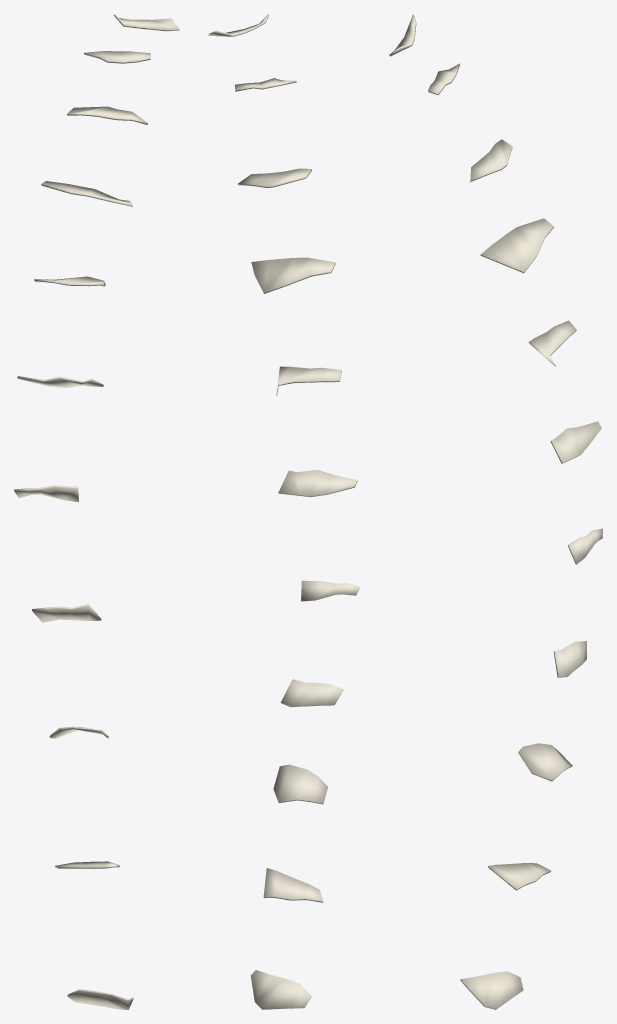
3 views of the same model, side by side, from view 1: azimuth 30°, elevation 25°; view 2: azimuth 210°, elevation 25°; view 3: azimuth 270°, elevation 25° (orthographic). The views are drawn at different scales.
Visible parts, largest first — view 1: ZA_ae37d65217f11e80; view 2: ZA_ae37d65217f11e80; view 3: ZA_ae37d65217f11e80.
Boxes of the visible parts, left/top/right/bottom form: ZA_ae37d65217f11e80: left=14, top=14, right=179, bottom=1009; ZA_ae37d65217f11e80: left=208, top=14, right=360, bottom=1009; ZA_ae37d65217f11e80: left=389, top=14, right=602, bottom=1009.
Size of the model in its own units: 0.0201 by 0.2671 by 0.0532.
